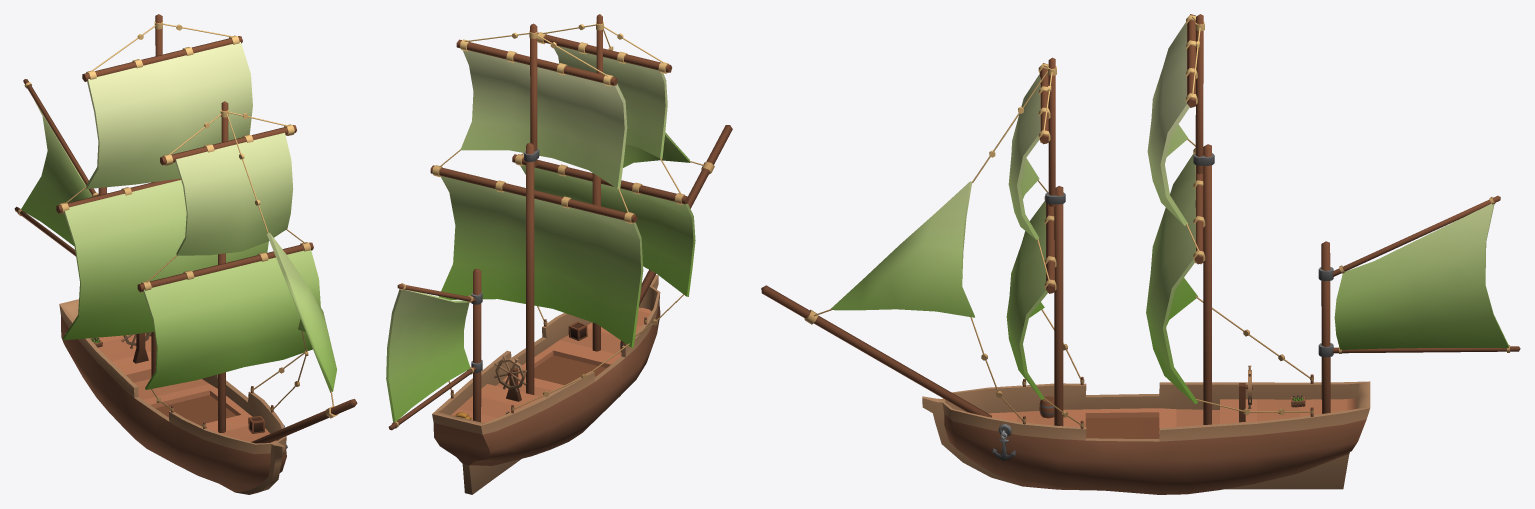
The model's file is sailing ship medium.fbx.
The picture shows the model from 3 angles, left to right: view 1: azimuth 30°, elevation 25°; view 2: azimuth 150°, elevation 25°; view 3: azimuth 270°, elevation 25°; orthographic projection. The views are drawn at different scales.
Parts seen in each view (by area): view 1: sailing_ship_medium; view 2: sailing_ship_medium; view 3: sailing_ship_medium.
Boxes of the visible parts, x1,y1,x2,y2 form: sailing_ship_medium: (14, 14, 357, 494); sailing_ship_medium: (386, 14, 732, 494); sailing_ship_medium: (761, 14, 1520, 494).
Bounding box in the file's own units: 982 × 1958 × 2848.
1 material, 1 textured.
